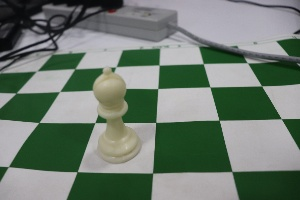white_bishop: (78, 56, 146, 169)
